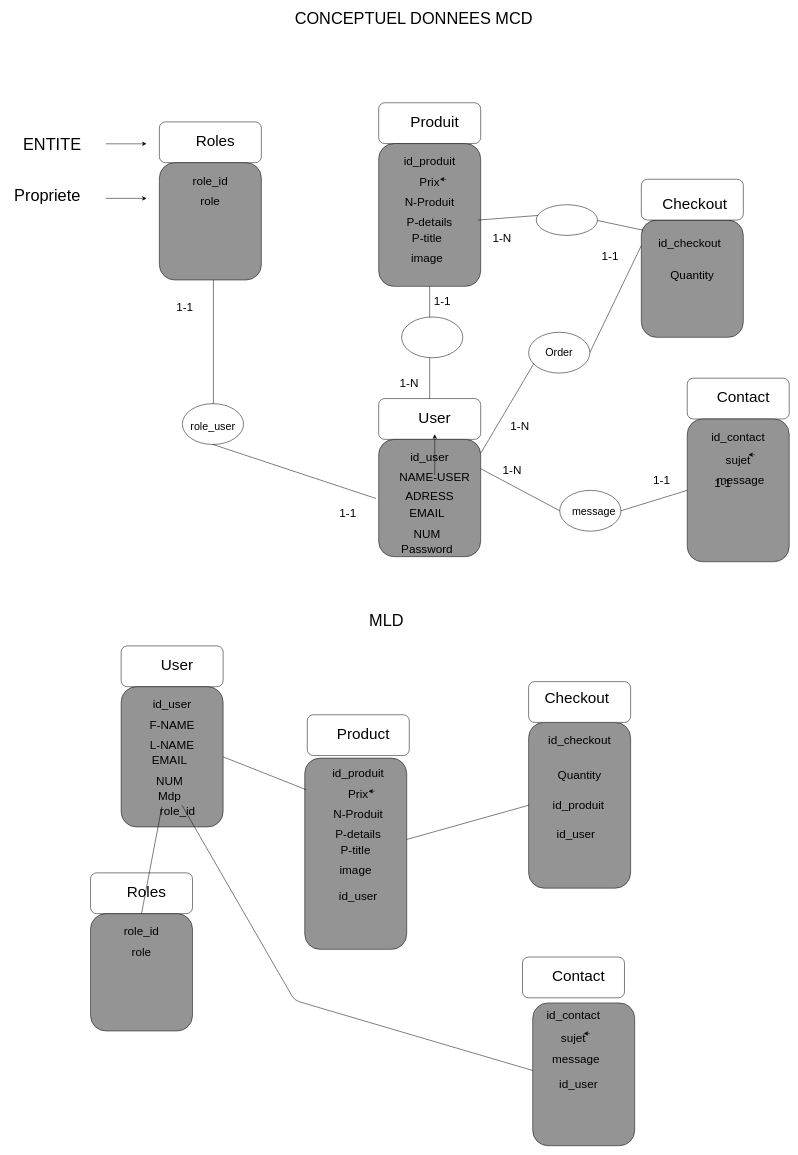
The diagram is 798 pixels wide and 1155 high, and some of its shapes have lost their labels. The shapes that lost their labels are listed below. From the top down, each one's centre as x and y in pixels, then its label:
point (566, 219): Achetie
point (432, 337): view Crud
